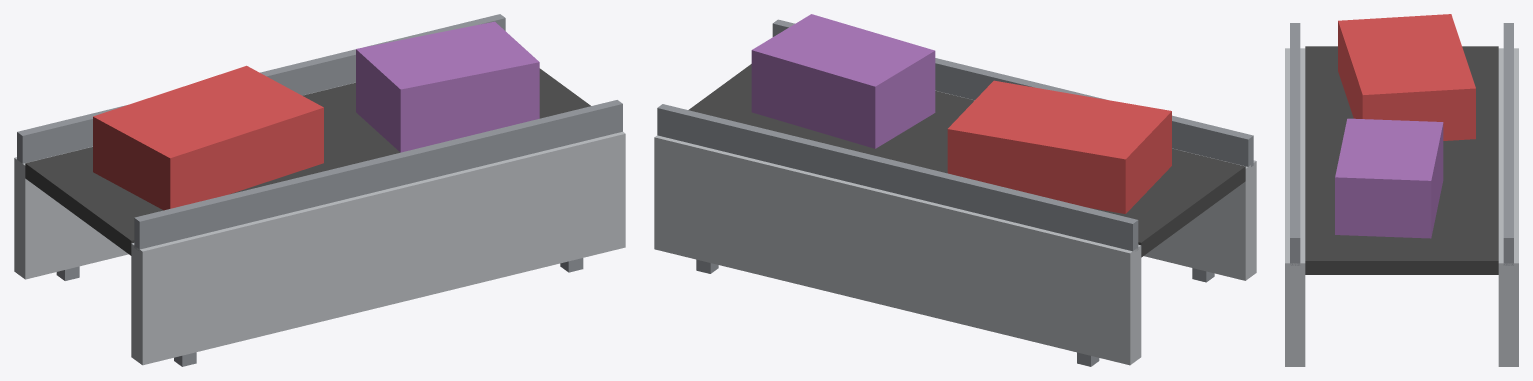
The model's file is CR_CintaEquipaje.fbx.
3 views of the same model, side by side, from view 1: azimuth 30°, elevation 25°; view 2: azimuth 150°, elevation 25°; view 3: azimuth 270°, elevation 25° (orthographic). The views are drawn at different scales.
Visible parts, largest first — view 1: CR_CintaEquipaje; view 2: CR_CintaEquipaje; view 3: CR_CintaEquipaje.
Boxes of the visible parts, left/top/right/bottom form: CR_CintaEquipaje: left=14, top=14, right=625, bottom=366; CR_CintaEquipaje: left=654, top=14, right=1256, bottom=366; CR_CintaEquipaje: left=1285, top=14, right=1518, bottom=366.
Bounding box in the file's own units: 2 × 0.76 × 0.92.
